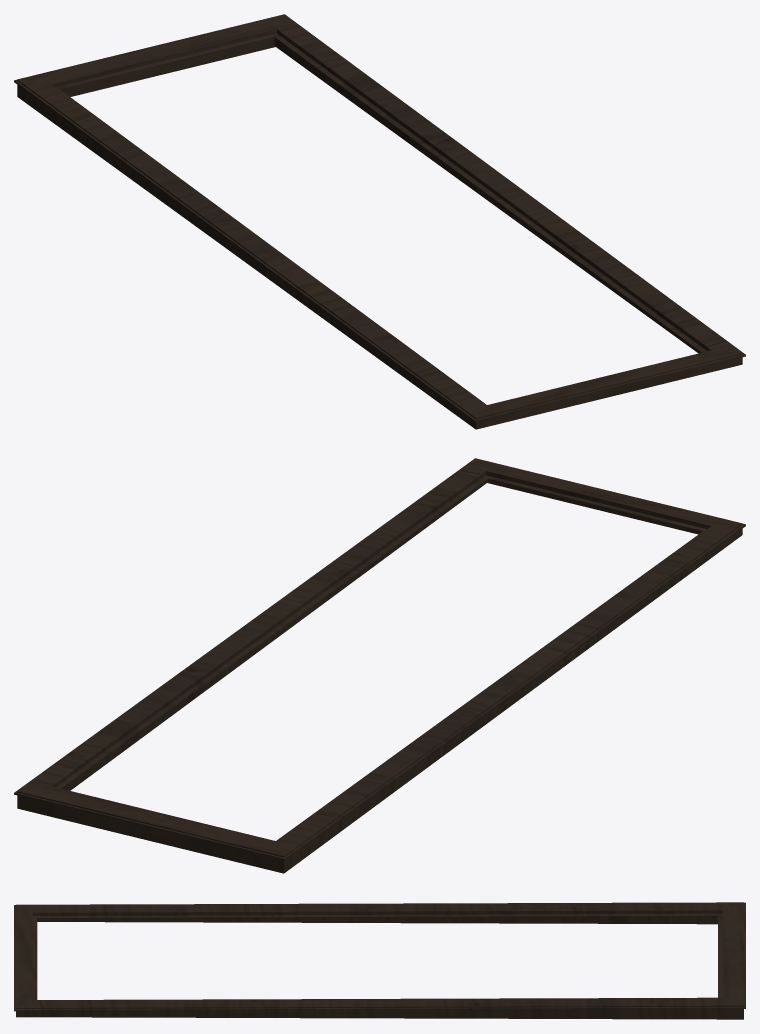
The model's file is RaamZijlicht-donkergrijs.dae.
3 renders of one model, top to bottom at view 1: azimuth 30°, elevation 25°; view 2: azimuth 150°, elevation 25°; view 3: azimuth 270°, elevation 25°, orthographic. The views are drawn at different scales.
Visible parts, largest first — view 1: RaamZijlicht_geo; view 2: RaamZijlicht_geo; view 3: RaamZijlicht_geo.
Boxes of the visible parts, <box> form: RaamZijlicht_geo: <box>14,14,745,429</box>; RaamZijlicht_geo: <box>14,458,745,873</box>; RaamZijlicht_geo: <box>14,902,745,1019</box>.
Bounding box in the file's own units: 52.9 × 3.26 × 156.
1 material, 1 textured.
